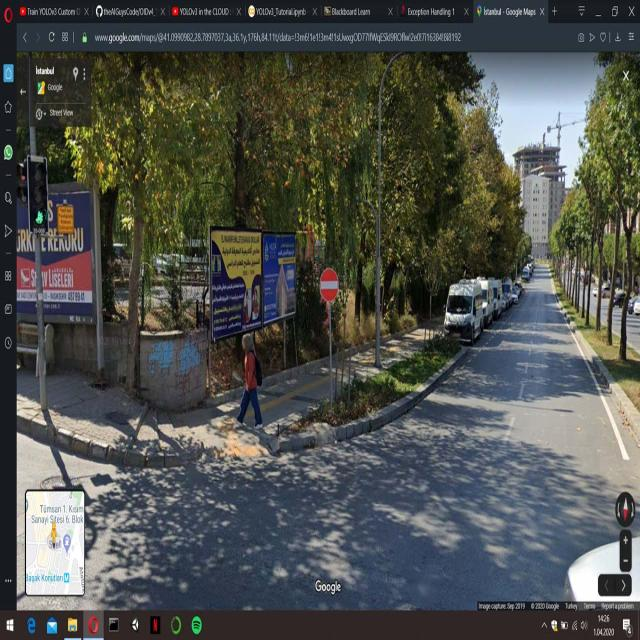girisyok: (320, 268, 338, 302)
yesil: (30, 157, 46, 232)
